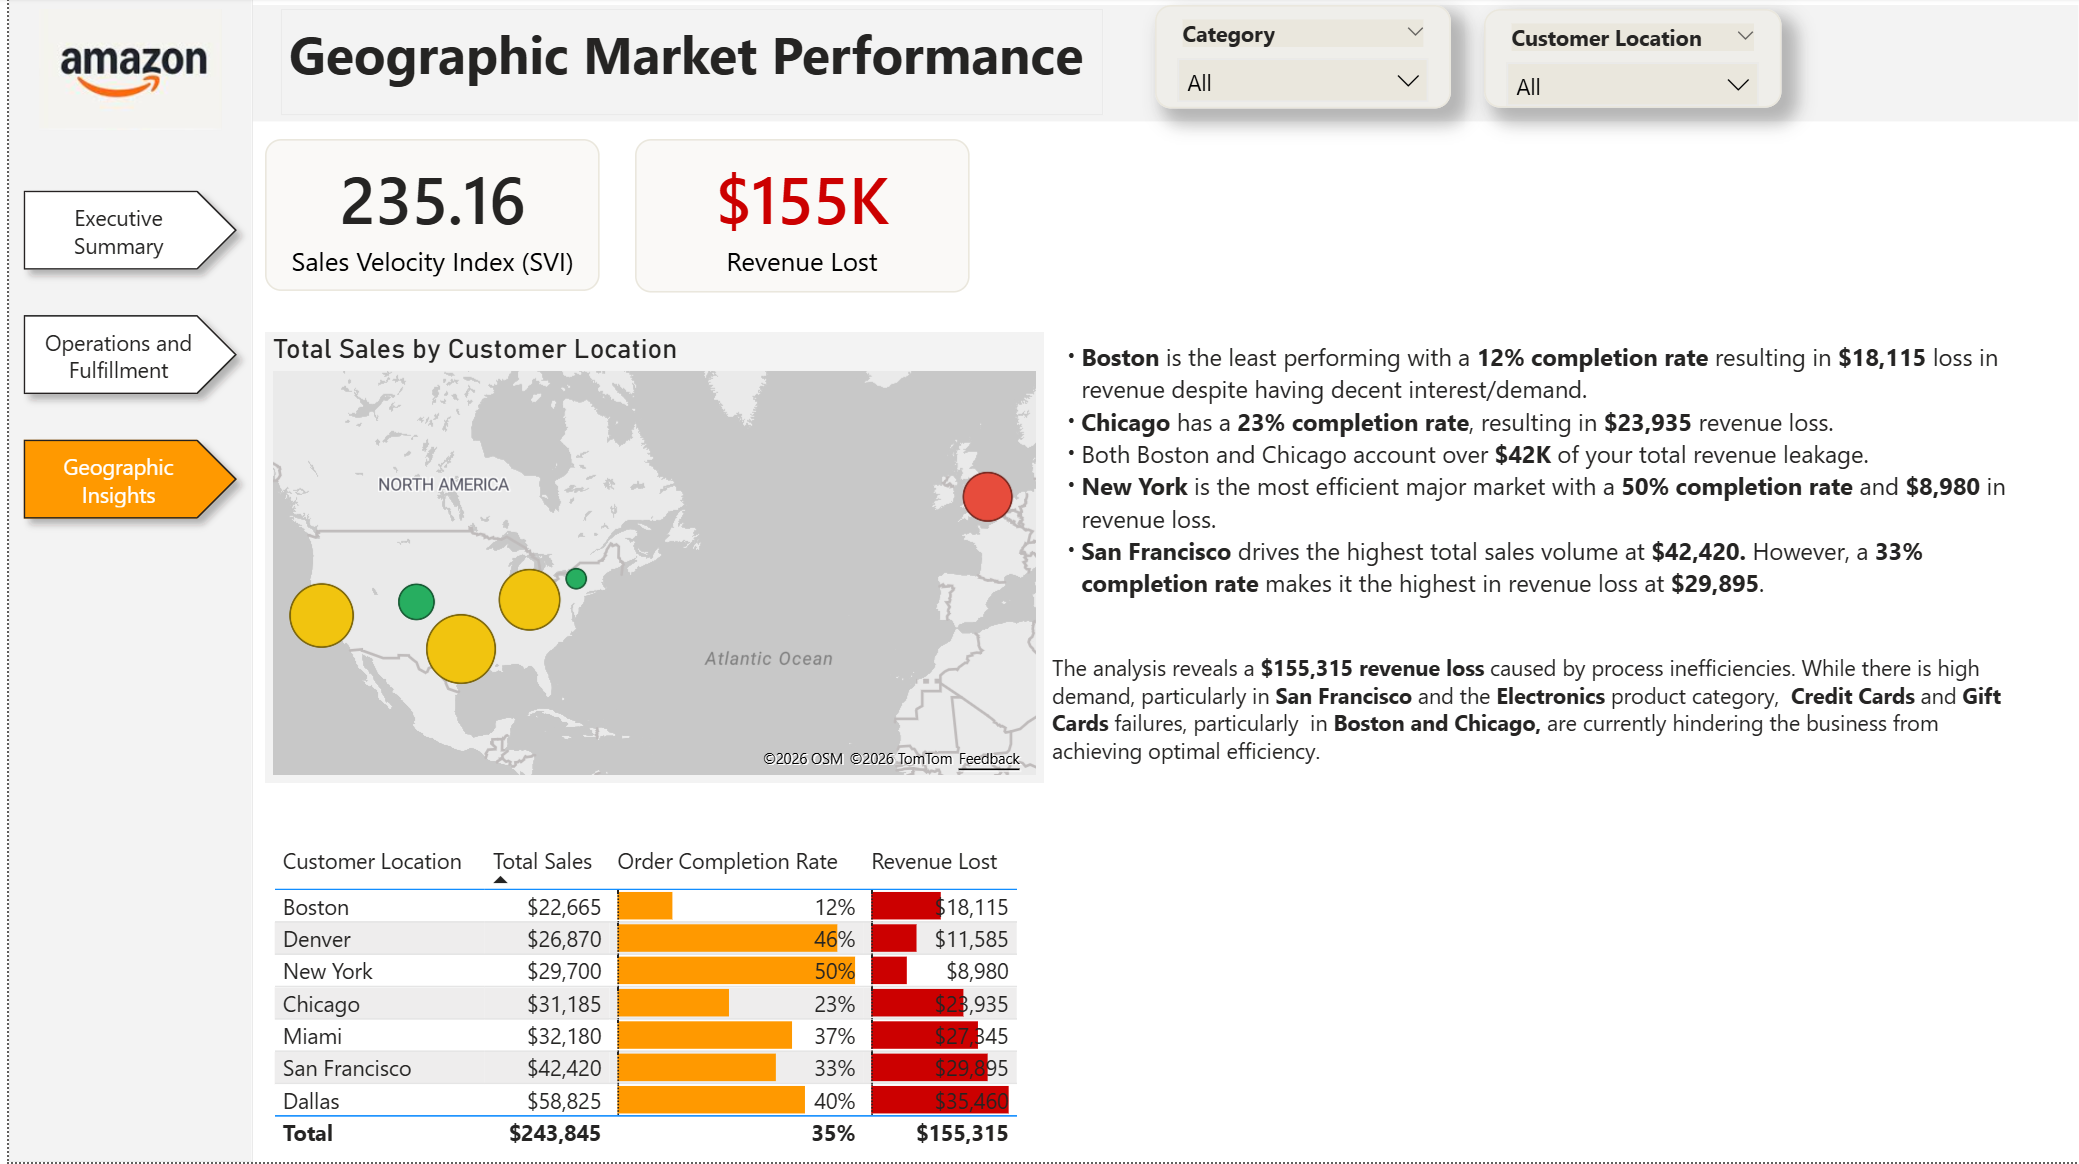

What the dashboard file says about the page in this screenshot:
{"tool":"powerbi","page":{"name":"Geographic Insights","canvas":[1280,720],"ordinal":2},"visuals":[{"type":"shape","box":[0,0,150.2,720],"z":0,"group":"g1"},{"type":"azureMap","title":"Total Sales by Customer Location","fields":{"Size":["fct_sales.Revenue Lost"],"Category":["dim_customers.Customer Location"]},"box":[158.3,206.6,481.7,279.1],"z":0},{"type":"pageNavigator","box":[0,110.3,150.7,222.8],"z":1000,"group":"g1"},{"type":"tableEx","fields":{"Values":["dim_customers.Customer Location","Sum(fct_sales.Total Sales)","fct_sales.Completion Rate","fct_sales.Revenue Lost"]},"box":[158.3,519.2,481.7,200.6],"z":1000},{"type":"image","box":[18.3,6.5,113.2,74.6],"z":1500,"group":"g1"},{"type":"card","fields":{"Values":["fct_sales.Sales Velocity Index (SVI)"]},"box":[158.3,87.2,207.3,93.9],"z":3000},{"type":"group","id":"g1","title":"Sidebar","box":[0,0,150.7,720],"z":4000},{"type":"shape","box":[150.3,4,1129.7,72.5],"z":5000},{"type":"textbox","box":[168.4,6.7,508.5,65.7],"z":6000},{"type":"slicer","fields":{"Values":["dim_customers.Customer Location"]},"box":[912.4,6.7,183.8,61],"z":7000},{"type":"slicer","fields":{"Values":["dim_products.Category"]},"box":[709.1,4,183.1,63.7],"z":7500},{"type":"textbox","box":[640,206.6,610.5,287.1],"z":7501},{"type":"card","fields":{"Values":["fct_sales.Revenue Lost"]},"box":[387.1,87.2,206.6,94.6],"z":7502}]}

Visuals, with their boxes in screenshot pixels (x1, y1, x2, y2), scaled from the page's 1280x720 canvas onto the 2079x1164 screenshot:
shape: (x1=0, y1=0, x2=244, y2=1163)
"Total Sales by Customer Location" azureMap: (x1=257, y1=334, x2=1040, y2=785)
pageNavigator: (x1=0, y1=178, x2=245, y2=539)
tableEx - dim_customers.Customer Location x Sum(fct_sales.Total Sales): (x1=257, y1=839, x2=1040, y2=1163)
image: (x1=30, y1=11, x2=214, y2=131)
card - fct_sales.Sales Velocity Index (SVI): (x1=257, y1=141, x2=594, y2=293)
"Sidebar" group: (x1=0, y1=0, x2=245, y2=1163)
shape: (x1=244, y1=6, x2=2078, y2=124)
textbox: (x1=274, y1=11, x2=1099, y2=117)
slicer - dim_customers.Customer Location: (x1=1482, y1=11, x2=1780, y2=109)
slicer - dim_products.Category: (x1=1152, y1=6, x2=1449, y2=109)
textbox: (x1=1040, y1=334, x2=2031, y2=798)
card - fct_sales.Revenue Lost: (x1=629, y1=141, x2=964, y2=294)
